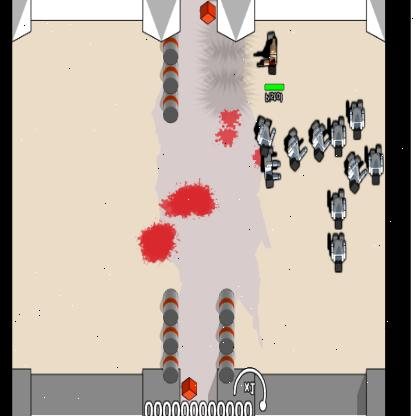agent: (266, 32, 280, 76)
jombie: (368, 142, 384, 186), (350, 97, 365, 141), (258, 115, 274, 156), (288, 128, 302, 173), (331, 189, 347, 228), (331, 232, 345, 276), (331, 117, 346, 156), (313, 118, 326, 162), (348, 154, 362, 194), (263, 148, 276, 190)
